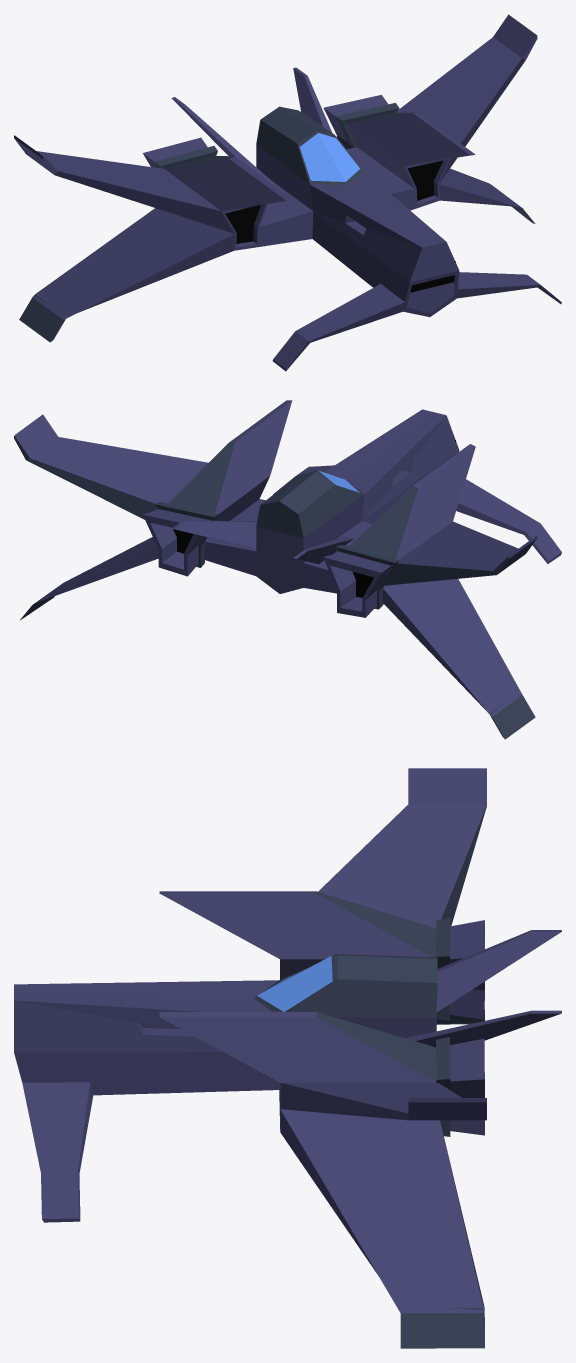
The model's file is AstralValkyrie.fbx.
3 views of the same model, one above another, from view 1: azimuth 30°, elevation 25°; view 2: azimuth 150°, elevation 25°; view 3: azimuth 270°, elevation 25° (orthographic). The views are drawn at different scales.
Parts seen in each view (by area): view 1: AstralValkyrie; view 2: AstralValkyrie; view 3: AstralValkyrie.
Part boxes in pixels (left/top/right/bottom): AstralValkyrie: left=14, top=14, right=561, bottom=371; AstralValkyrie: left=14, top=400, right=561, bottom=739; AstralValkyrie: left=14, top=768, right=561, bottom=1348.
Size of the model in its own units: 20.86 by 7.48 by 14.64.
